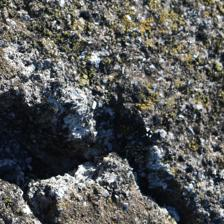Crack: (114, 91, 198, 218), (9, 151, 105, 222), (7, 79, 96, 146)
